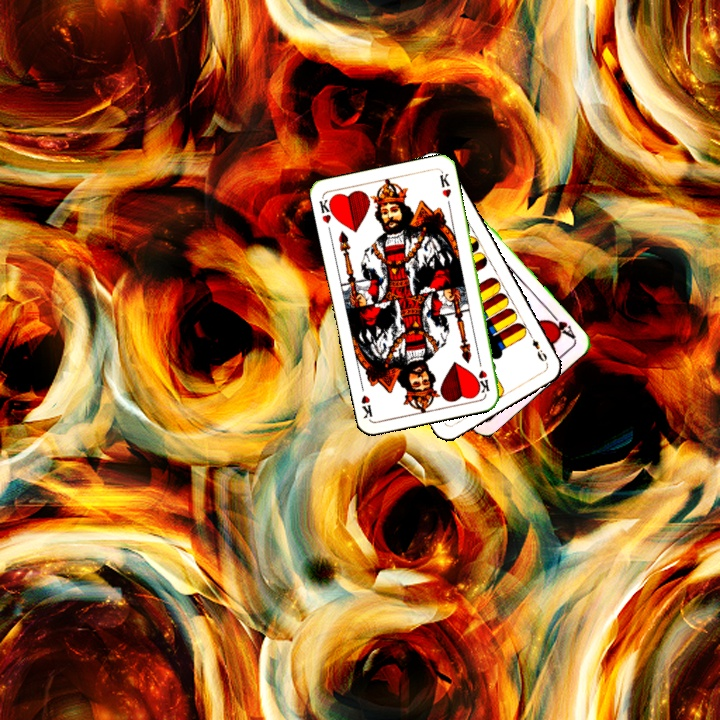E9: (525, 329, 550, 364)
HA: (543, 309, 579, 342)
HK: (315, 193, 338, 226), (474, 354, 492, 395)
